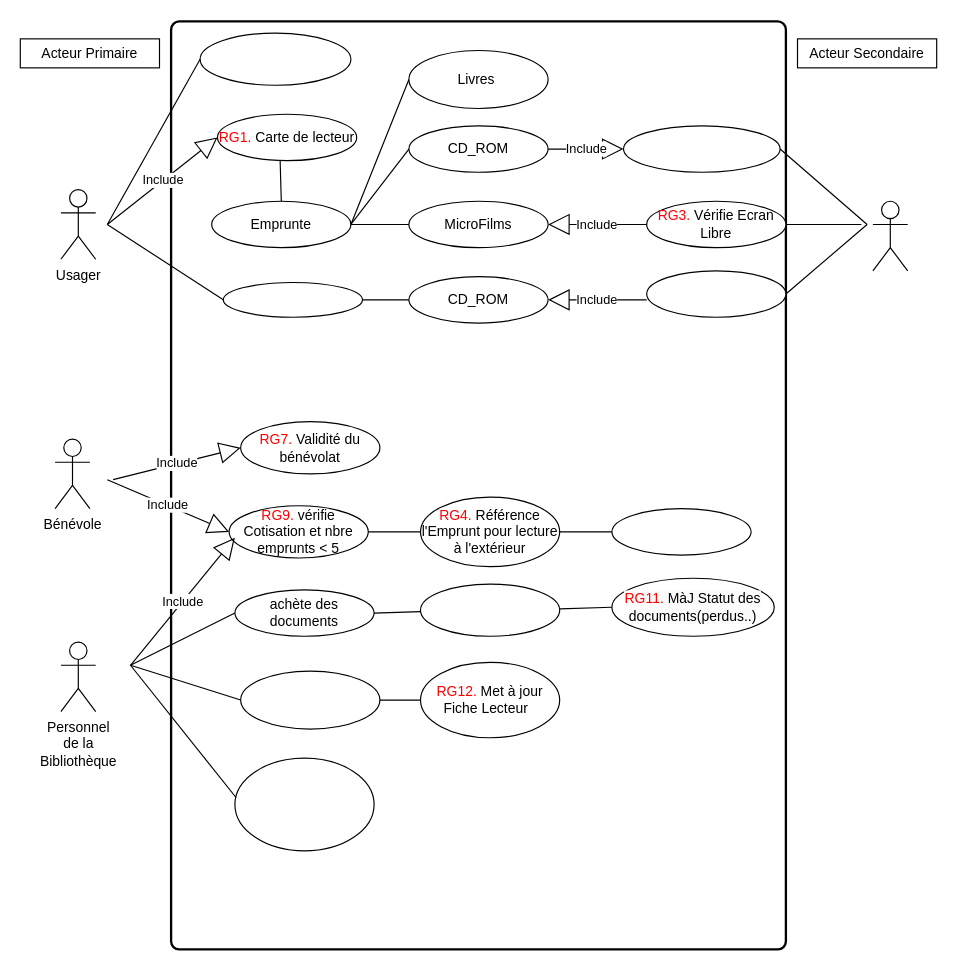
The diagram is 957 pixels wide and 970 high, and some of its shapes have lost their labels. Here are the shapes that lost their labels. From the top down, the centre of each, then its label:
At (x=275, y=58): "Consulte la liste des documents disponibles".
At (x=701, y=148): "RG2. Paiement Caution".
At (x=890, y=235): "Guichetier".
At (x=292, y=299): "Restitue".
At (x=716, y=293): "Restitue Caution".
At (x=681, y=531): "RG5. Fiche de prêt".
At (x=489, y=609): "RG6. Enregistre Nx Documents".
At (x=310, y=699): "Inscription Nx Lecteurs".
At (x=304, y=804): "RG10. Gère les relances pour emprunt > 4 semaines".
